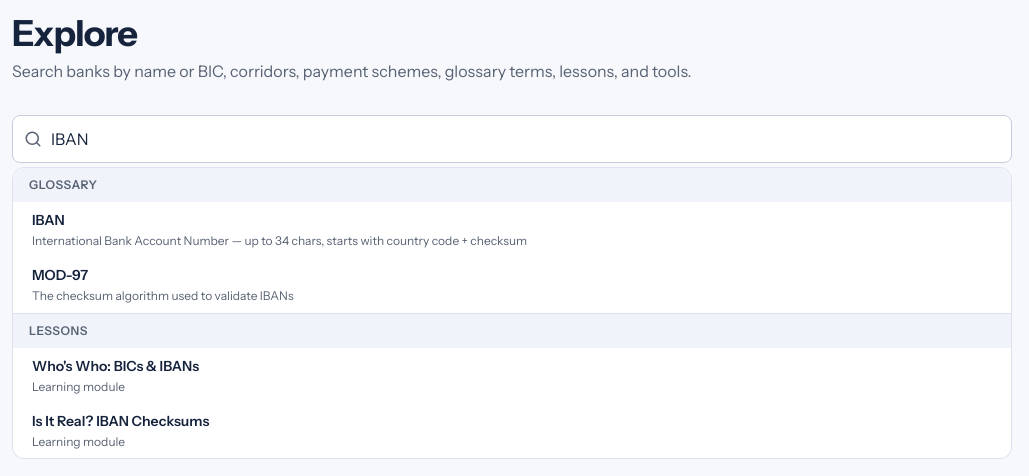
Scenario: ExplorePage › keeps click activation inside a router basename
This screenshot has width=1029, height=476.
Click the option "IBAN" at (48, 220), box [32,211,527,248]
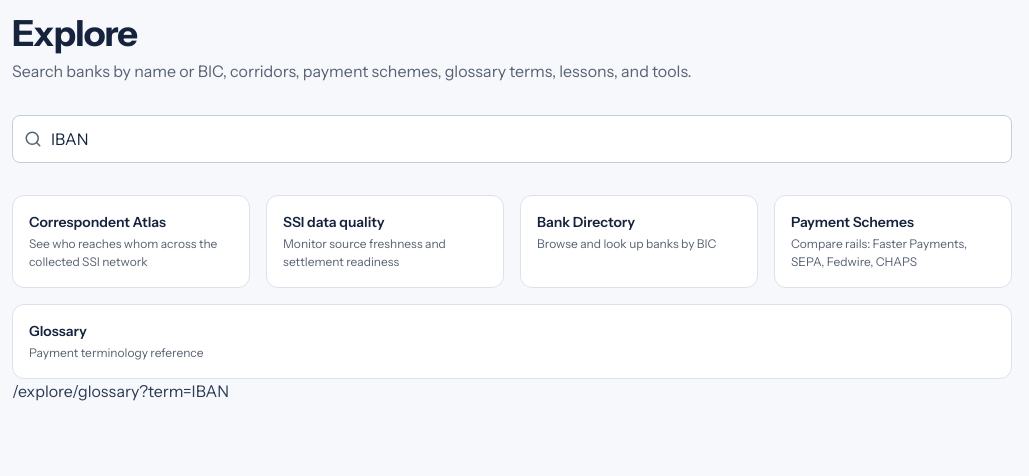
Check: the text with test id "location" does not show "/app/app/", box [12,381,229,401]
Check: the text with test id "location" reads "/explore/glossary?term=IBAN", box [12,381,229,401]
